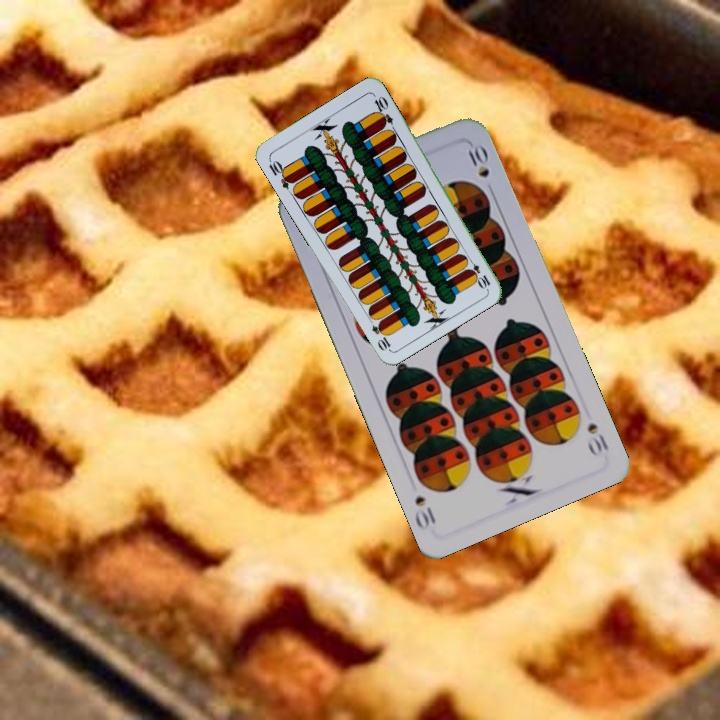E10: (265, 155, 296, 191), (463, 254, 493, 291)
S10: (583, 418, 611, 459)
